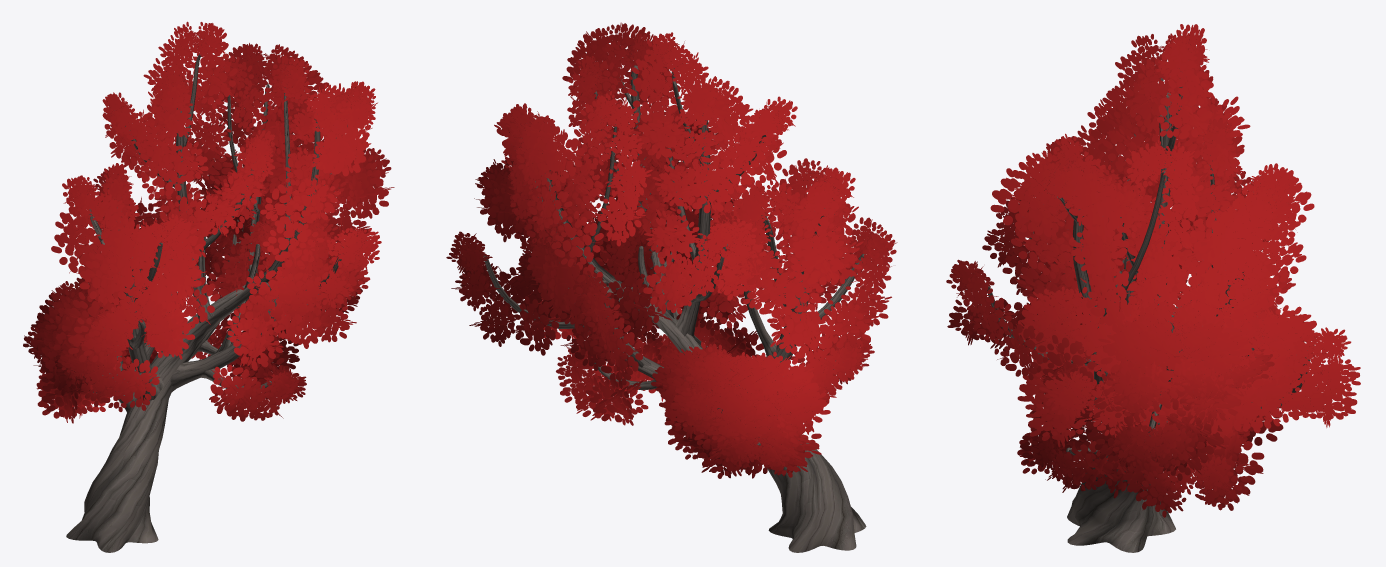
Rendered from TwistedTree_1.gltf.
3 views of the same model, side by side, from view 1: azimuth 30°, elevation 25°; view 2: azimuth 150°, elevation 25°; view 3: azimuth 270°, elevation 25° (orthographic). The views are drawn at different scales.
Visible parts, largest first — view 1: TwistedTree_1; view 2: TwistedTree_1; view 3: TwistedTree_1.
Boxes of the visible parts, left/top/right/bottom form: TwistedTree_1: left=23, top=21, right=394, bottom=552; TwistedTree_1: left=446, top=22, right=897, bottom=552; TwistedTree_1: left=946, top=24, right=1360, bottom=552.
Size of the model in its own units: 13.52 by 16.73 by 11.55.
Materials: 2 (2 with a texture image).
